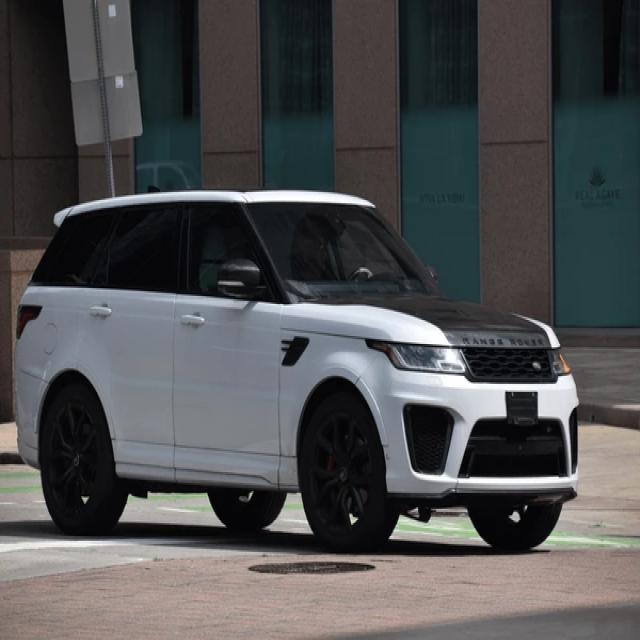rangerover: (457, 328, 551, 352)
